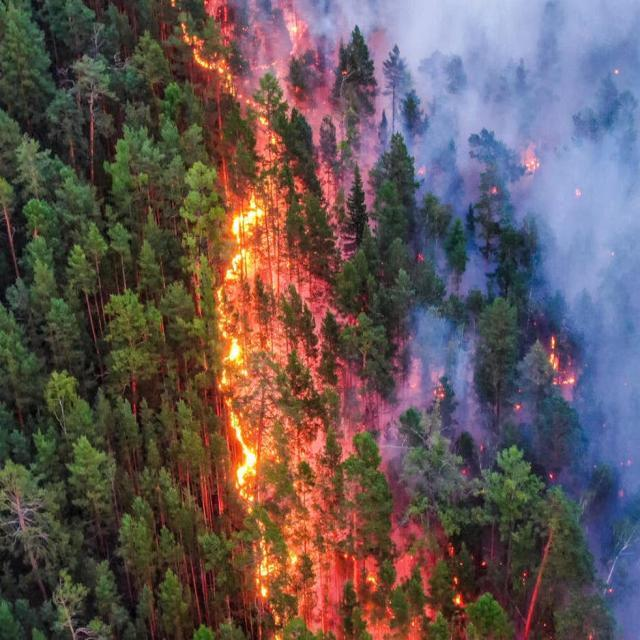Fire: (182, 4, 324, 640)
Smoke: (443, 8, 640, 594)
